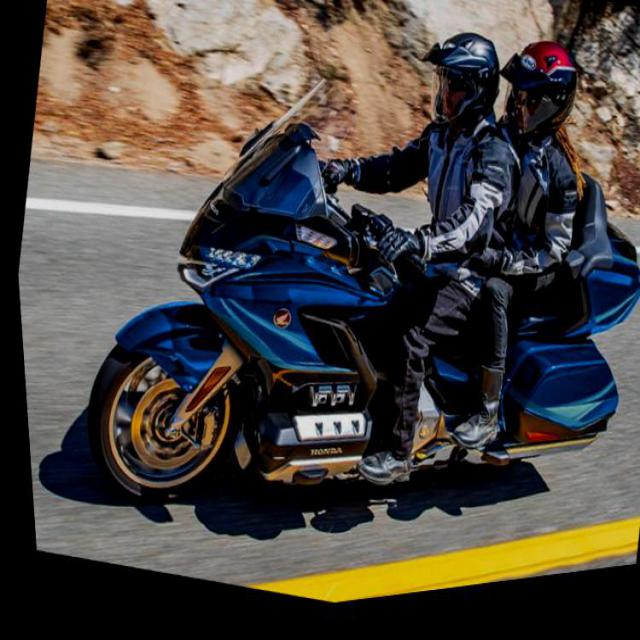Gold Wing: (47, 0, 640, 636)
